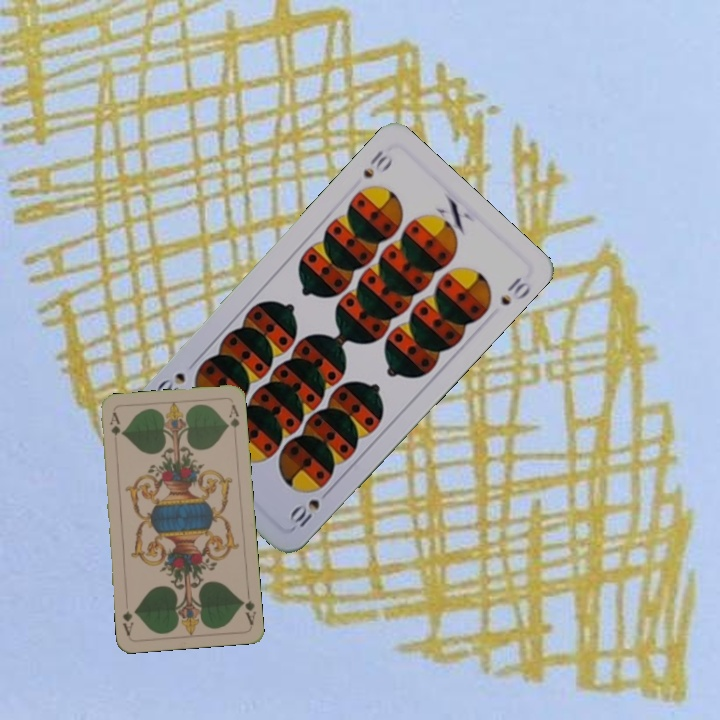GA: (237, 587, 258, 627), (106, 408, 122, 449)
S10: (285, 484, 334, 533), (359, 146, 395, 181)
